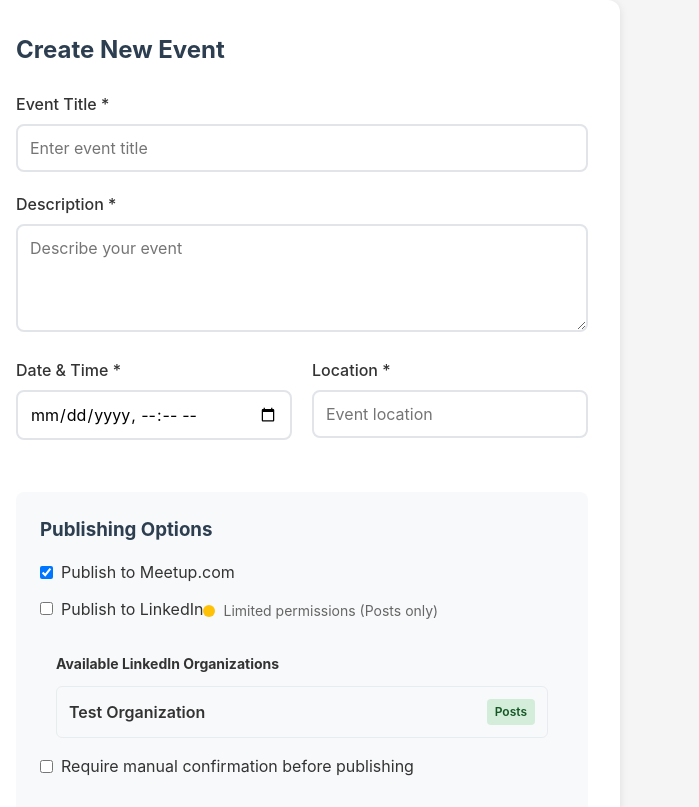
Test case: EventForm Component › shows permission warning when LinkedIn has limited permissions
Expected: the text "Limited permissions (Posts only)" is shown, 224,600 -> 438,621
Click the checkbox labelled "Publish to LinkedIn Limited permissions (Posts only)" at {"x": 46, "y": 609}, box 40,602 -> 53,615
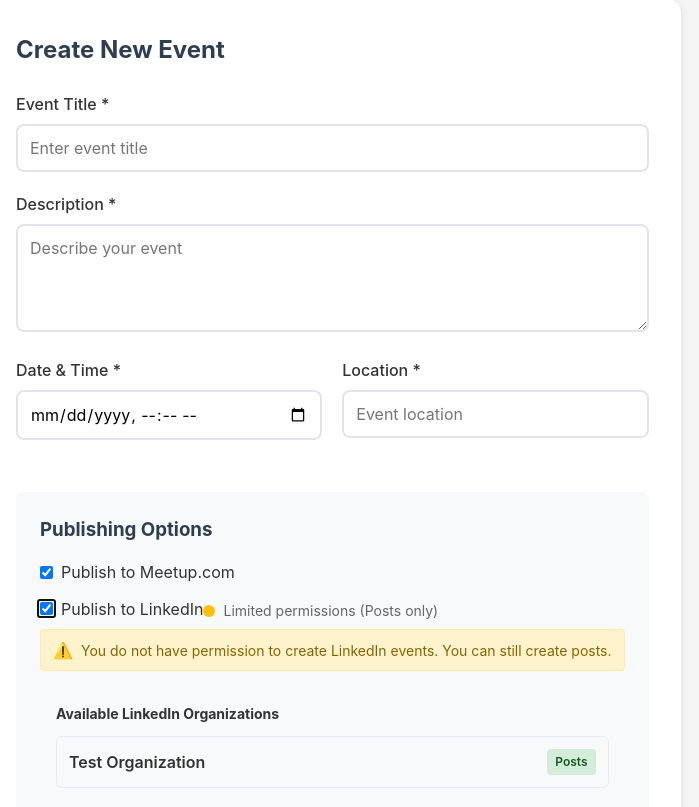
Expected: the text "You do not have permission to create LinkedIn events" is shown, 81,642 -> 612,659
